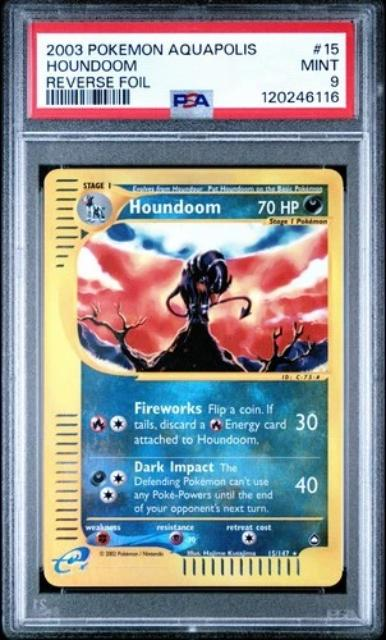Card: (37, 165, 346, 591)
Name: (124, 192, 225, 219)
